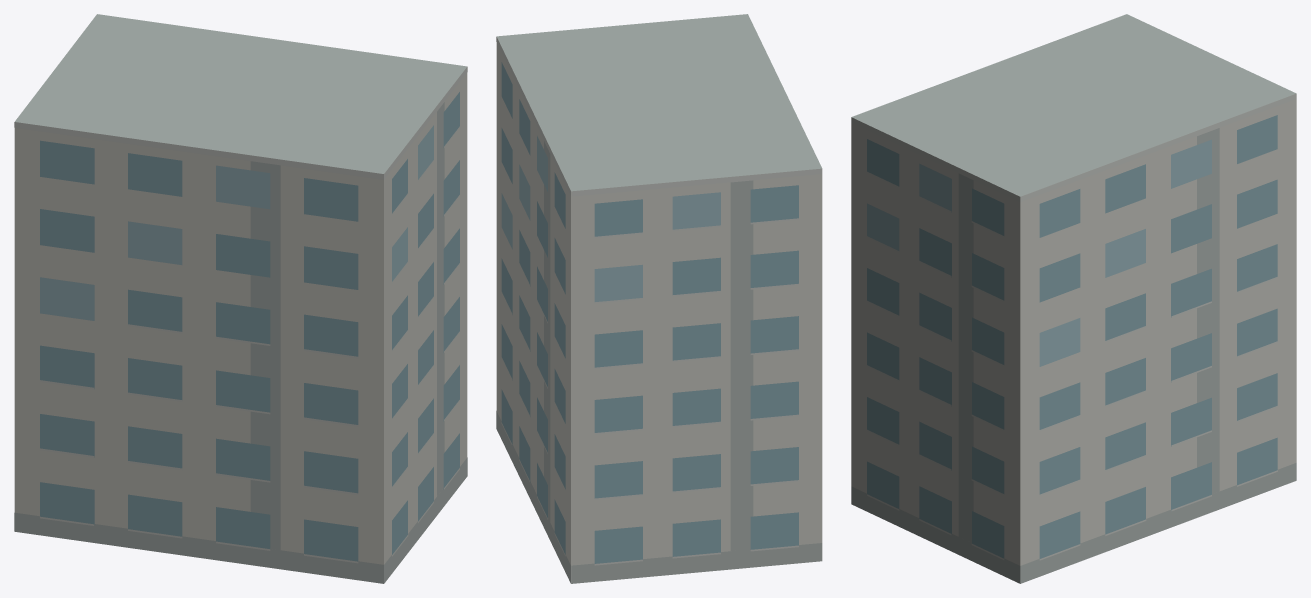
Rendered from survey-upis-32951828.glb.
3 views of the same model, side by side, from view 1: azimuth 30°, elevation 25°; view 2: azimuth 150°, elevation 25°; view 3: azimuth 270°, elevation 25° (orthographic). The views are drawn at different scales.
Visible parts, largest first — view 1: survey-upis-32951828.tmp; view 2: survey-upis-32951828.tmp; view 3: survey-upis-32951828.tmp.
Boxes of the visible parts, box(x1,y1,x2,y2) form: survey-upis-32951828.tmp: box(14, 14, 467, 583); survey-upis-32951828.tmp: box(496, 14, 822, 583); survey-upis-32951828.tmp: box(851, 14, 1296, 583).
Size of the model in its own units: 17.32 by 17.1 by 17.84.
